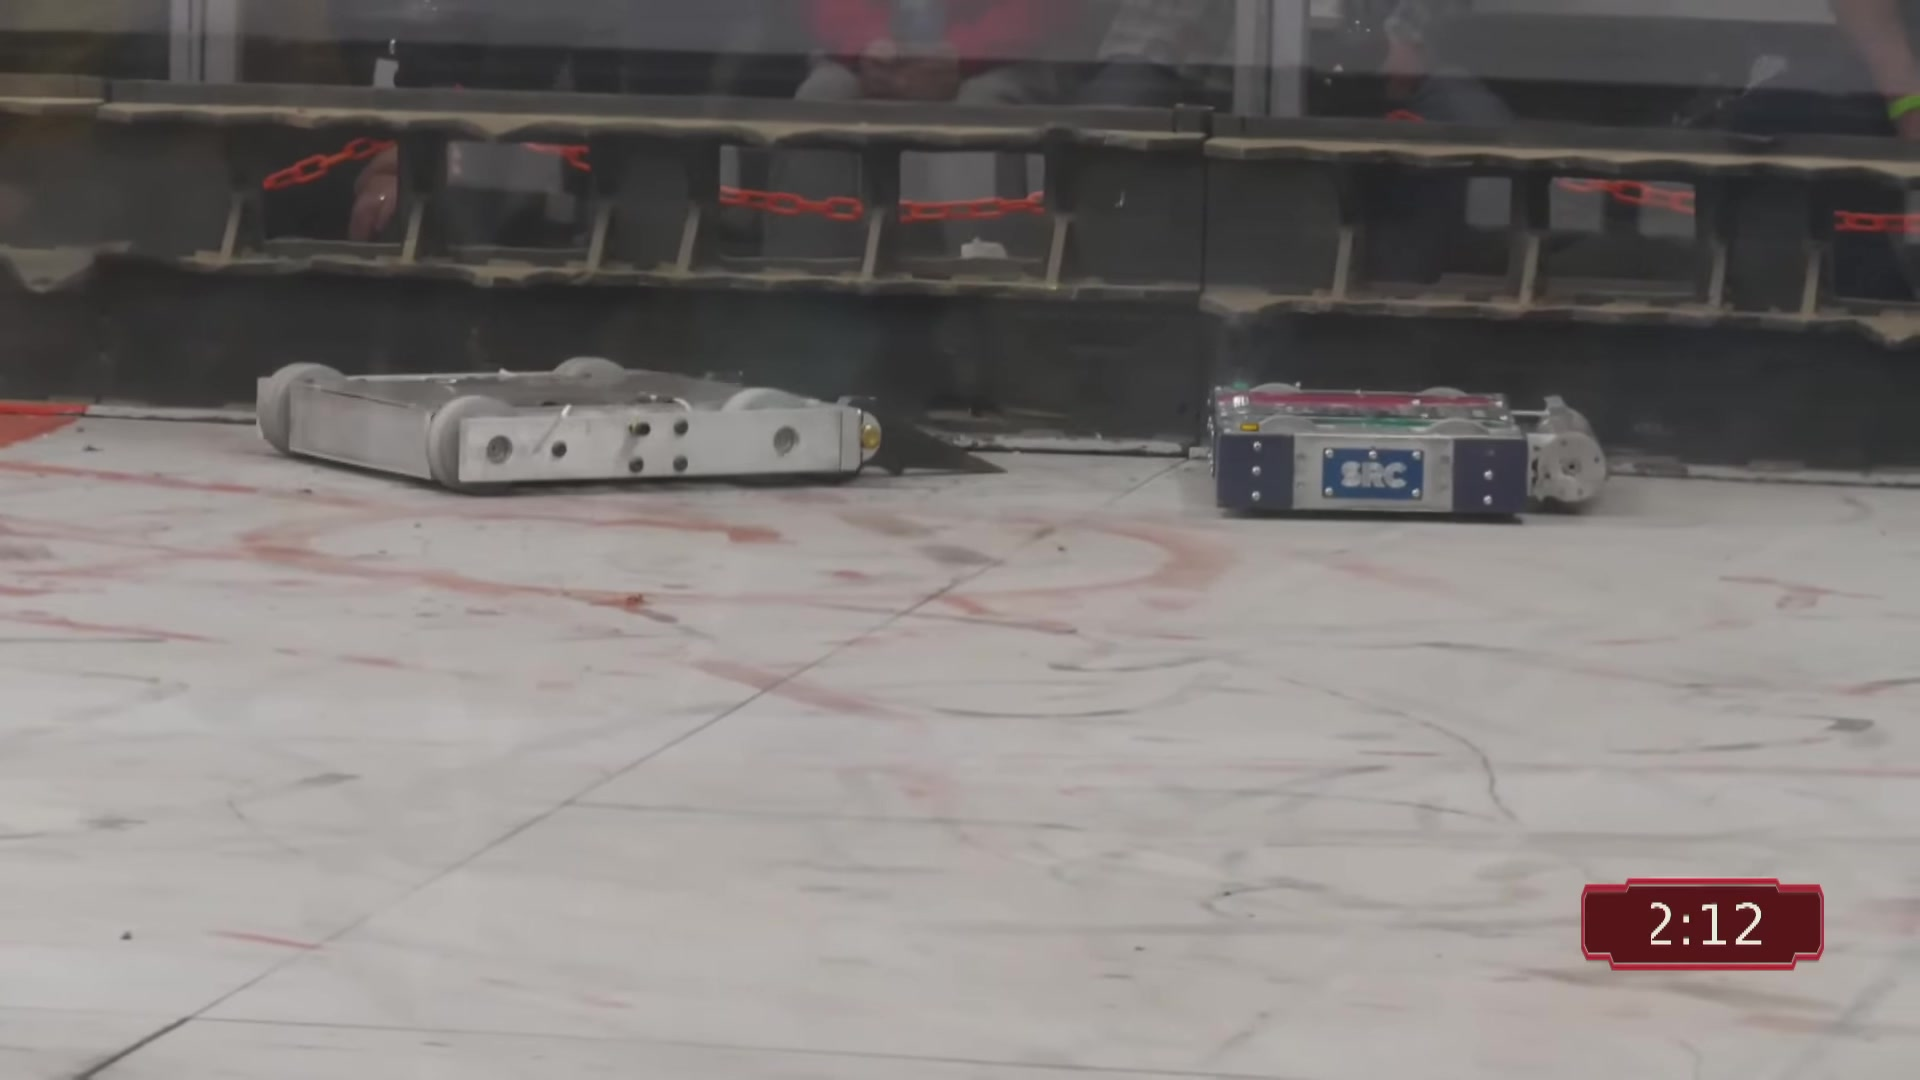combatbot: (258, 357, 1006, 493), (1209, 385, 1609, 525)
